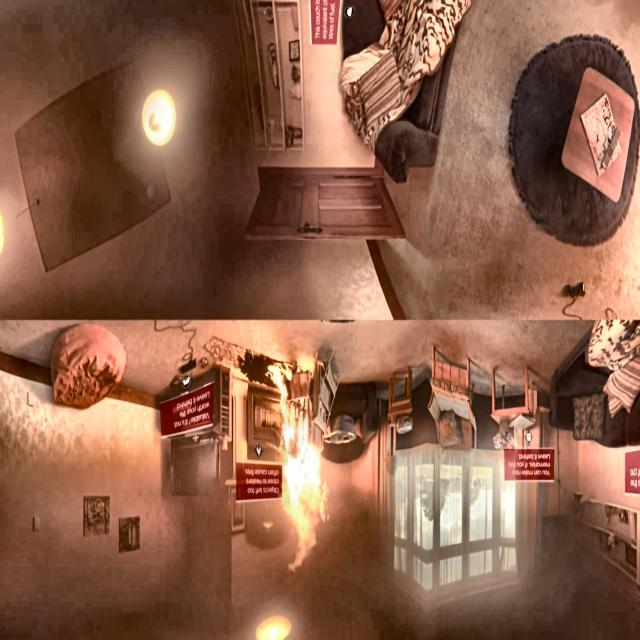fire: (276, 415, 328, 566)
